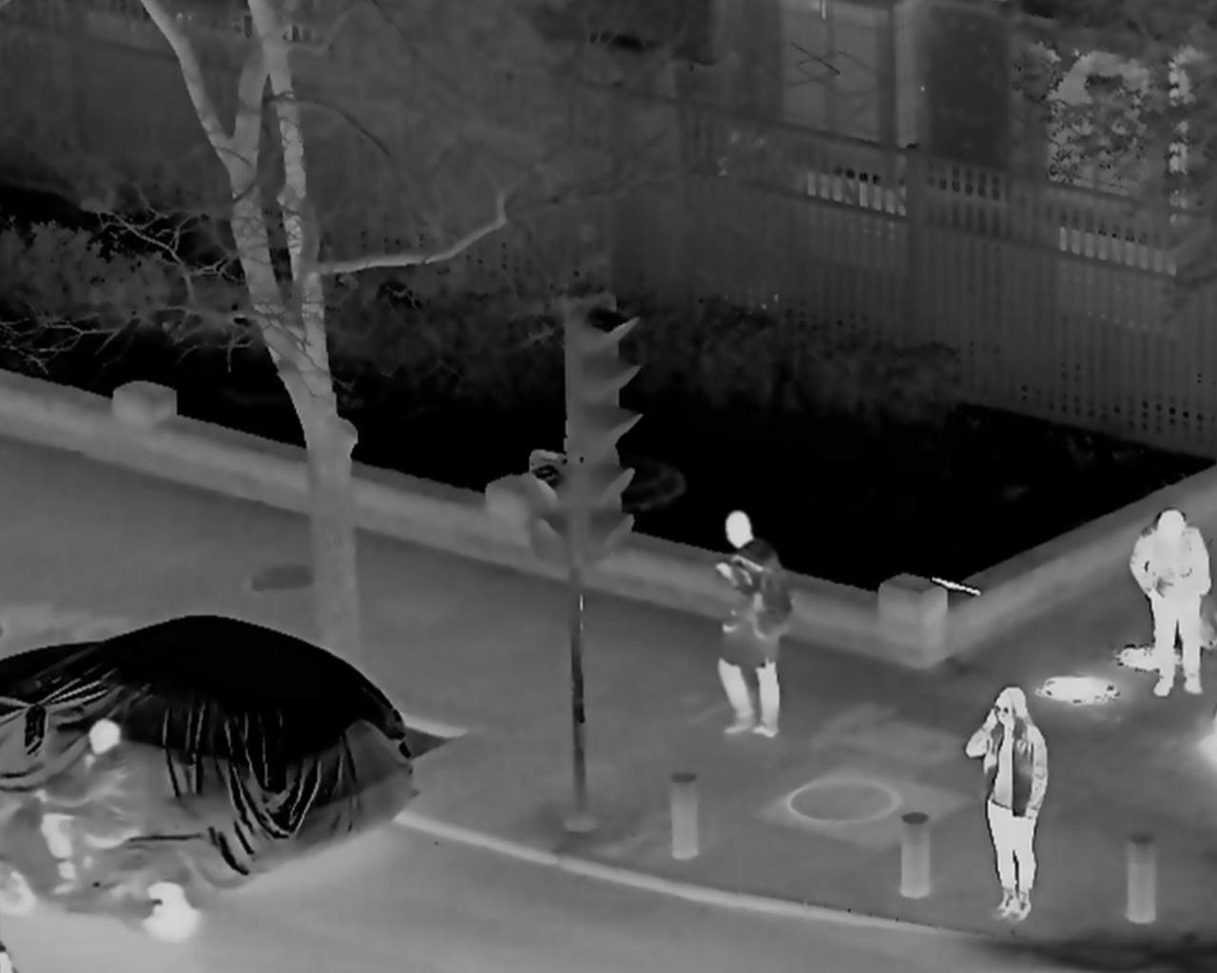person: (32, 721, 146, 898), (961, 689, 1047, 921), (709, 509, 787, 744), (1123, 512, 1207, 699)
